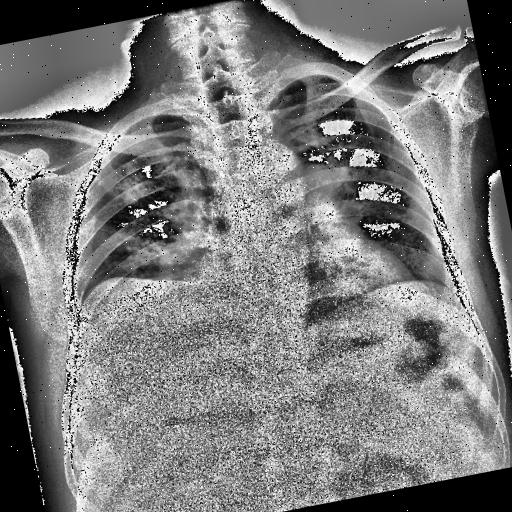0- Aortic enlargement: (244, 137, 308, 207)
3- Cardiomegaly: (174, 216, 420, 364), (178, 215, 416, 331), (182, 218, 414, 328)
5- ILD: (317, 106, 449, 294), (97, 158, 203, 285)
6- Infiltration: (118, 146, 214, 272)
8- Nodule-Mass: (306, 158, 363, 230)
9- Other lesion: (69, 256, 242, 352), (72, 252, 226, 318)
